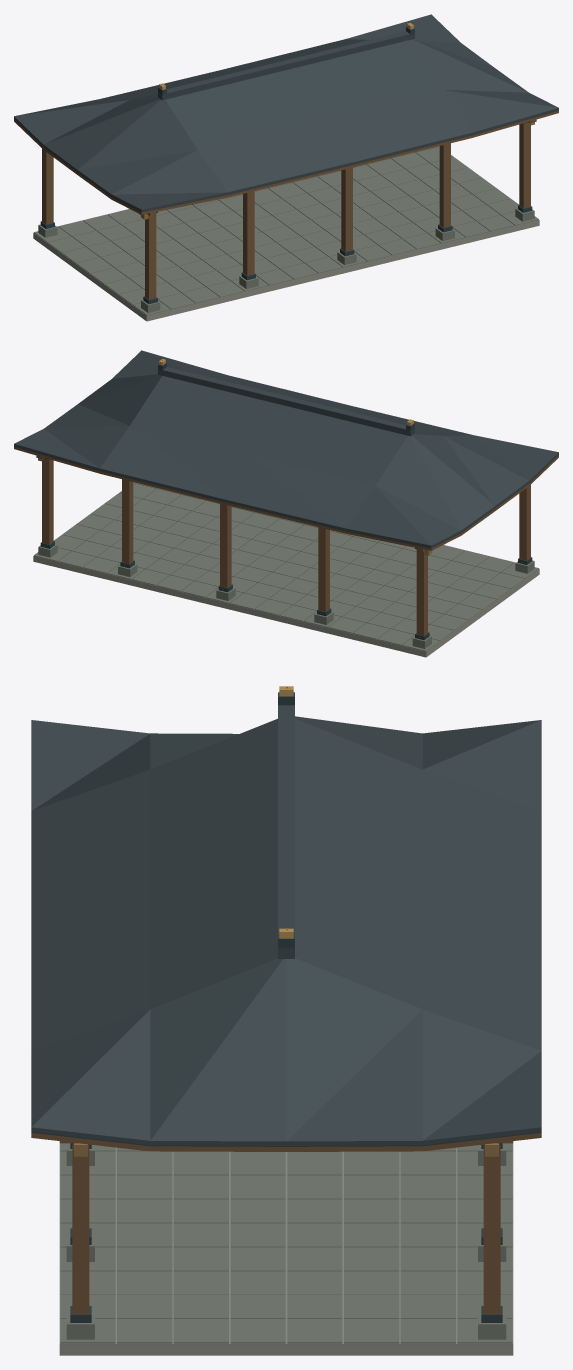
3 renders of one model, top to bottom at view 1: azimuth 30°, elevation 25°; view 2: azimuth 150°, elevation 25°; view 3: azimuth 270°, elevation 25°, orthographic. The views are drawn at different scales.
Parts seen in each view (by area): view 1: 长脊飞檐手选远档 · far1, 石铺面与混凝土楼板 (×8), 木柱、石础与金属抱箍 (×6); view 2: 长脊飞檐手选远档 · far1, 石铺面与混凝土楼板 (×8), 木柱、石础与金属抱箍 (×6); view 3: 长脊飞檐手选远档 · far1, 石铺面与混凝土楼板 (×4), 木柱、石础与金属抱箍 (×2).
Boxes of the visible parts, left/top/right/bottom form: 长脊飞檐手选远档 · far1: left=14, top=14, right=558, bottom=219; 石铺面与混凝土楼板 (×8): left=33, top=146, right=539, bottom=321; 木柱、石础与金属抱箍 (×6): left=38, top=122, right=534, bottom=312; 长脊飞檐手选远档 · far1: left=14, top=350, right=558, bottom=555; 石铺面与混凝土楼板 (×8): left=33, top=482, right=539, bottom=657; 木柱、石础与金属抱箍 (×6): left=38, top=458, right=534, bottom=648; 长脊飞檐手选远档 · far1: left=31, top=686, right=541, bottom=1156; 石铺面与混凝土楼板 (×4): left=59, top=1151, right=513, bottom=1355; 木柱、石础与金属抱箍 (×2): left=66, top=1143, right=506, bottom=1339.
Size of the model in its own units: 13.6 by 5.54 by 7.2.
10 materials, 10 textured.
